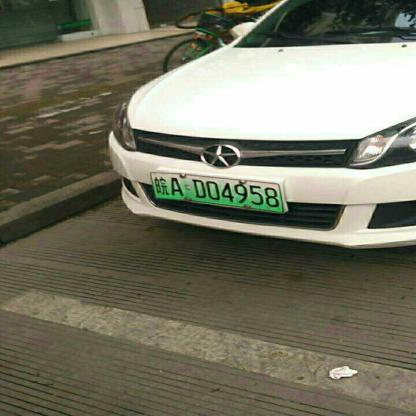lp: (148, 171, 284, 213)
